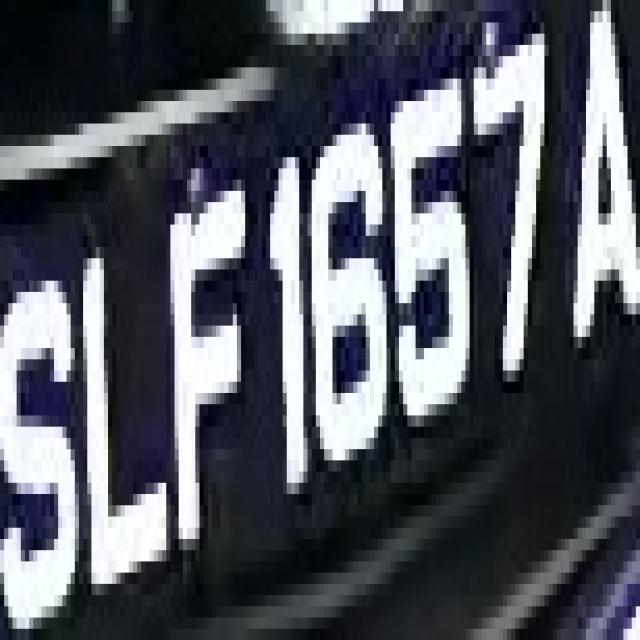1: (262, 79, 312, 550)
5: (382, 56, 474, 438)
6: (304, 90, 386, 483)
7: (453, 11, 561, 472)
A: (565, 0, 635, 415)
F: (162, 168, 262, 584)
L: (75, 202, 170, 584)
S: (8, 247, 79, 618)
